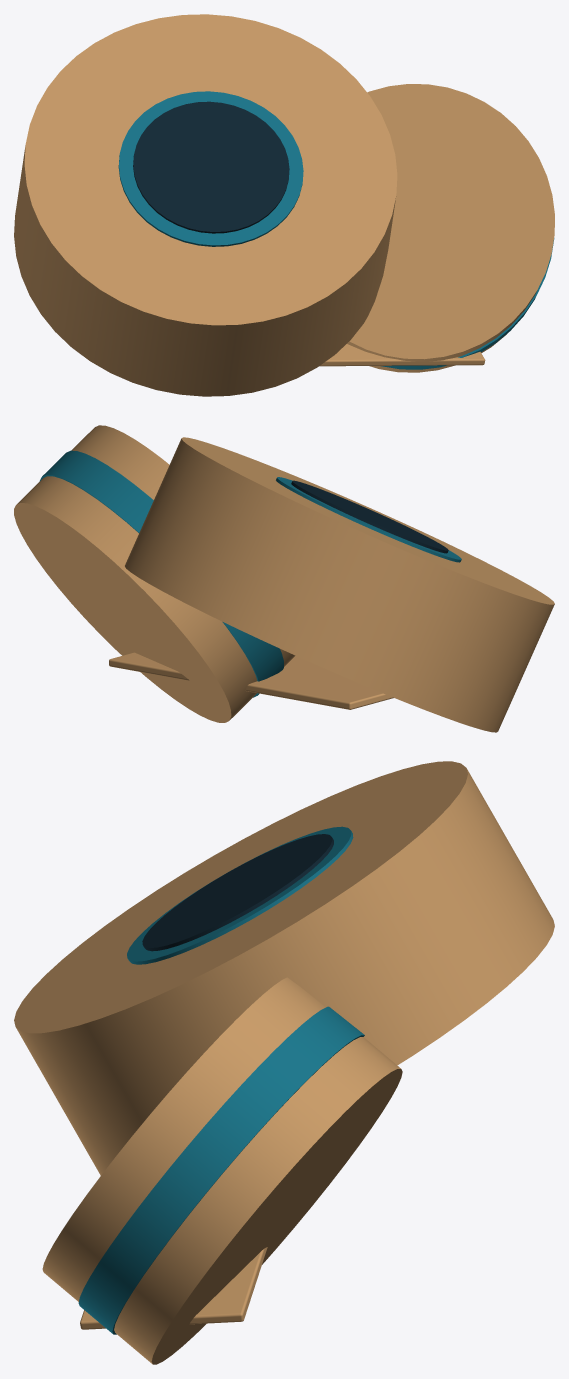
The model's file is gum-tape.glb.
3 renders of one model, top to bottom at view 1: azimuth 30°, elevation 25°; view 2: azimuth 150°, elevation 25°; view 3: azimuth 270°, elevation 25°, orthographic. The views are drawn at different scales.
Visible parts, largest first — view 1: gum-tape; view 2: gum-tape; view 3: gum-tape.
Boxes of the visible parts, x1,y1,x2,y2 form: gum-tape: (14,14,554,396); gum-tape: (14,425,554,732); gum-tape: (14,761,554,1364).
Size of the model in its own units: 3.13 by 1.99 by 2.18.
